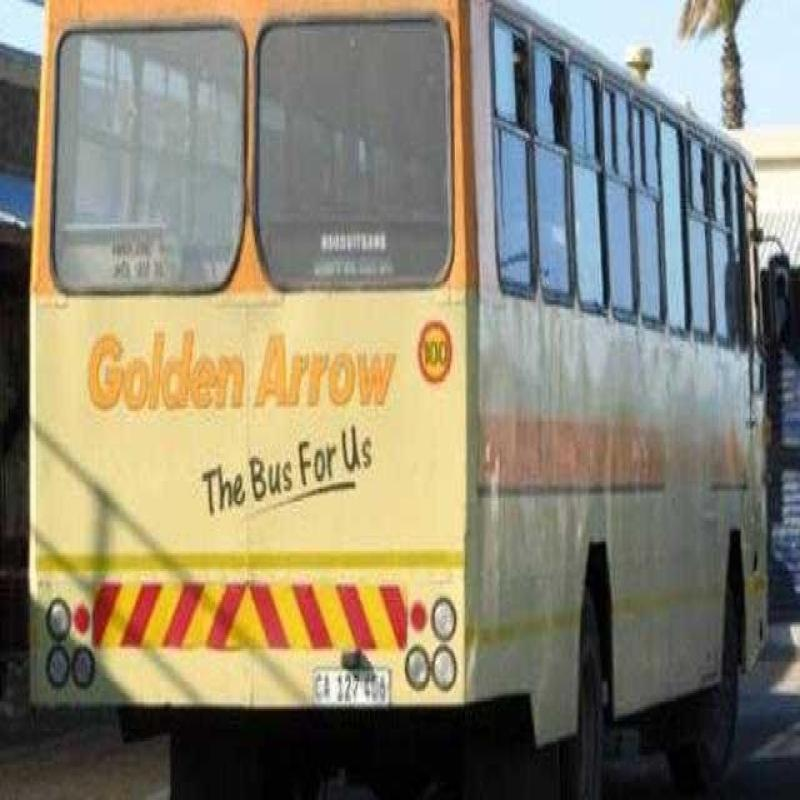bus: (21, 5, 780, 800)
